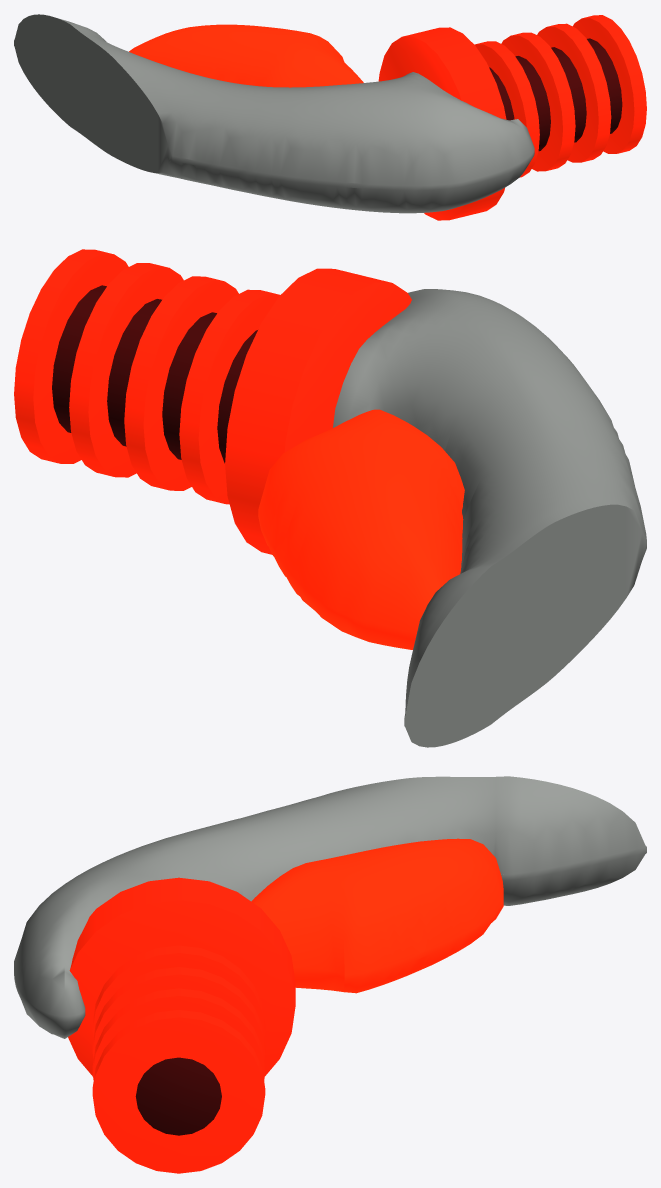
The model's file is pincer_l_coil.glb.
The picture shows the model from 3 angles, top to bottom: view 1: azimuth 30°, elevation 25°; view 2: azimuth 150°, elevation 25°; view 3: azimuth 270°, elevation 25°; orthographic projection. The views are drawn at different scales.
Visible parts, largest first — view 1: hull_left, light0, coil_collar_left, rib2_left, rib3_left, rib4_left, coil_core_left, rib1_left; view 2: hull_left, light0, coil_collar_left, rib4_left, rib2_left, rib3_left, coil_core_left, rib1_left; view 3: hull_left, light0, coil_collar_left, rib4_left, coil_core_left, rib3_left, rib2_left, rib1_left.
Boxes of the visible parts, <box> form: hull_left: <box>14,14,534,213</box>; light0: <box>129,24,363,87</box>; coil_collar_left: <box>378,27,506,220</box>; rib2_left: <box>501,32,575,171</box>; rib3_left: <box>537,23,611,162</box>; rib4_left: <box>572,15,646,153</box>; coil_core_left: <box>489,38,622,151</box>; rib1_left: <box>474,41,539,177</box>; hull_left: <box>333,289,646,747</box>; light0: <box>258,409,464,649</box>; coil_collar_left: <box>225,268,411,554</box>; rib4_left: <box>14,249,128,463</box>; rib2_left: <box>124,276,238,490</box>; rib3_left: <box>69,263,183,477</box>; coil_core_left: <box>52,285,257,463</box>; rib1_left: <box>179,289,279,504</box>; hull_left: <box>14,776,646,1038</box>; light0: <box>251,838,503,993</box>; coil_collar_left: <box>68,877,295,1076</box>; rib4_left: <box>92,1010,265,1173</box>; coil_core_left: <box>135,1057,221,1135</box>; rib3_left: <box>92,988,265,1080</box>; rib2_left: <box>92,967,265,1059</box>; rib1_left: <box>92,945,265,1037</box>.
Bounding box in the file's own units: 23.01 × 9.2 × 24.95.
